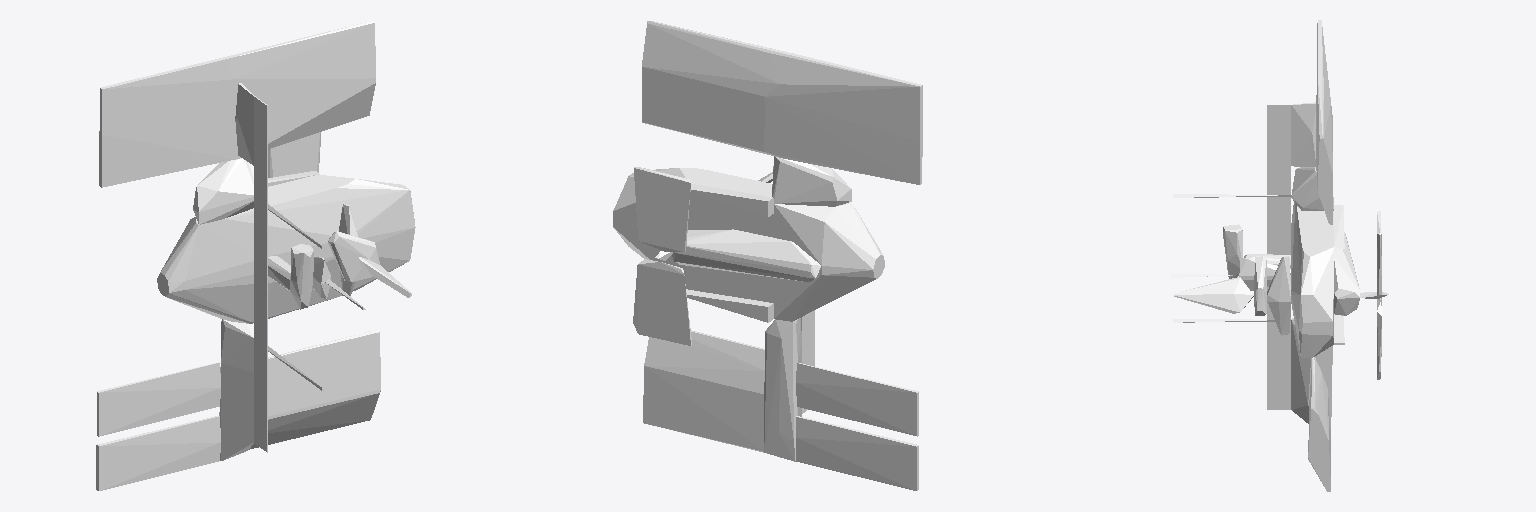
robot.urdf — ISS:
<?xml version="0.0" ?>
<robot name="ISS">
  <link name="ISS_link">
    <inertial>
      <origin rpy="0 0 0" xyz="0 0 0"/>
       <mass value=".0"/>
       <inertia ixx="0" ixy="0" ixz="0" iyy="0" iyz="0" izz="0"/>
    </inertial>
    <visual>
      <origin rpy="0 0 0" xyz="0 0 0"/>
      <geometry>
		    <mesh filename="package://safemotions/description/meshes/obstacles/visual/ISS.obj" scale="1 1 1"/>
      </geometry>
      <material name="white">
        <color rgba="1 1 1 1"/>
      </material>
    </visual>
  </link>
</robot>

--- What the picture shows (computed from the rendered views, not written in the file) ---
The picture shows the robot from 3 angles, left to right: view 1: azimuth 30°, elevation 25°; view 2: azimuth 150°, elevation 25°; view 3: azimuth 270°, elevation 25°; orthographic projection.
Robot: ISS — 1 links, 0 joints (none); root link ISS_link; default pose: all joints at 0.
Visible links, largest first — view 1: ISS_link; view 2: ISS_link; view 3: ISS_link.
Boxes of the visible links, x1=… form: ISS_link: x1=96, y1=21, x2=415, y2=490; ISS_link: x1=613, y1=21, x2=922, y2=490; ISS_link: x1=1171, y1=20, x2=1388, y2=491.
Bounding box of the posed robot: 0.5818 × 0.4128 × 0.7411 m (x, y, z).
1 mesh visuals loaded from 1 distinct referenced files (1 OBJ).